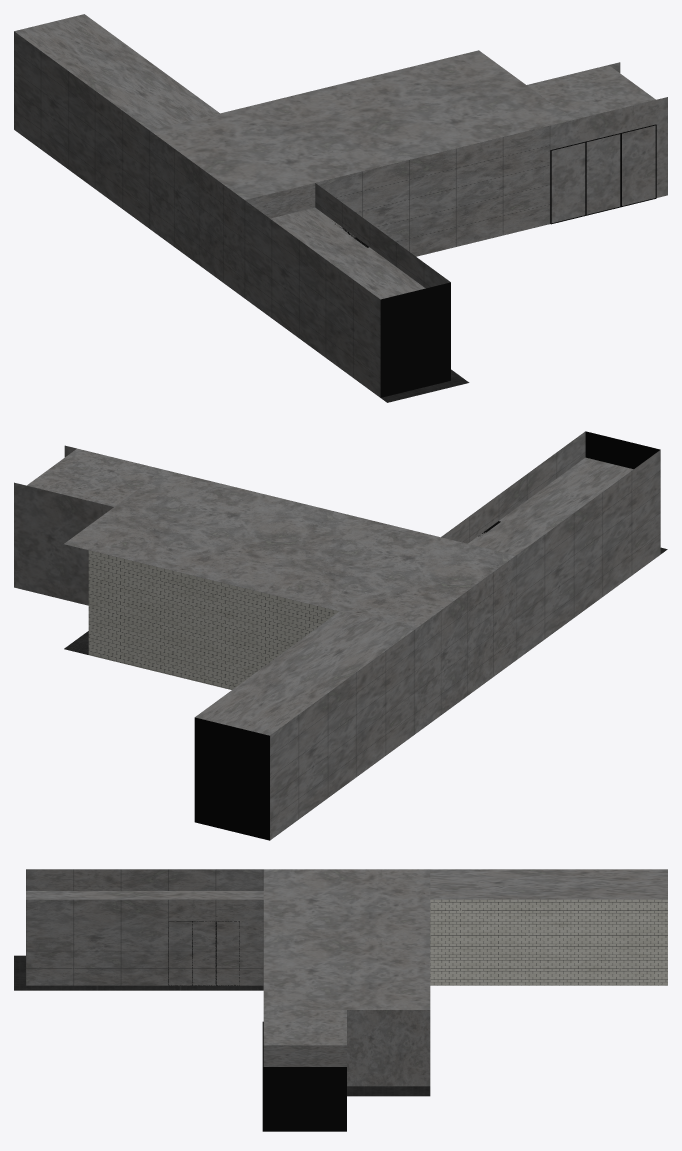
Rendered from CLA A floor.fbx.
3 renders of one model, top to bottom at view 1: azimuth 30°, elevation 25°; view 2: azimuth 150°, elevation 25°; view 3: azimuth 270°, elevation 25°, orthographic. The views are drawn at different scales.
Parts seen in each view (by area): view 1: Plane.015, Plane.004, Plane.034, Plane.013, Plane.011, Plane.007, Plane.010, Plane.012, Plane.021, Plane.017, Plane.029, Plane.016 (+3 smaller); view 2: Plane.006, Plane.004, Plane.034, Plane.011, Plane.013, Plane.012, Plane.010, Plane.020, Plane.009, Plane.017, Plane.029, Plane.016 (+1 smaller); view 3: Plane.001, Plane.016, Plane.004, Plane.034, Plane.012, Plane.019, Plane.002, Plane.013, Plane.029, Plane.017, Plane.003, Plane.025 (+3 smaller).
Boxes of the visible parts, x1,y1,x2,y2 form: Plane.015: (316,126,550,256); Plane.004: (150,90,408,199); Plane.034: (314,50,573,159); Plane.013: (244,200,380,397); Plane.011: (14,31,149,228); Plane.007: (550,97,667,222); Plane.010: (149,131,244,298); Plane.012: (14,14,219,130); Plane.021: (380,282,450,397); Plane.017: (270,207,425,299); Plane.029: (527,65,655,119); Plane.016: (315,183,450,288); Plane.006: (88,550,338,689); Plane.004: (239,513,515,629); Plane.034: (64,470,339,586); Plane.011: (270,630,414,840); Plane.013: (516,450,660,660); Plane.012: (195,611,414,735); Plane.010: (414,556,515,734); Plane.020: (194,717,269,840); Plane.009: (14,482,113,605); Plane.017: (468,457,633,555); Plane.029: (27,448,164,506); Plane.016: (441,431,585,543); Plane.001: (430,899,667,985); Plane.016: (26,899,263,985); Plane.004: (263,869,430,939); Plane.034: (263,939,430,1009); Plane.012: (430,869,667,899); Plane.019: (347,1010,430,1086); Plane.002: (263,1067,346,1131); Plane.013: (26,869,263,890); Plane.029: (263,1010,346,1045); Plane.017: (26,891,263,899); Plane.003: (263,1045,346,1066); Plane.025: (347,1086,430,1096).
Size of the model in its own units: 1800 by 400 by 2750.
